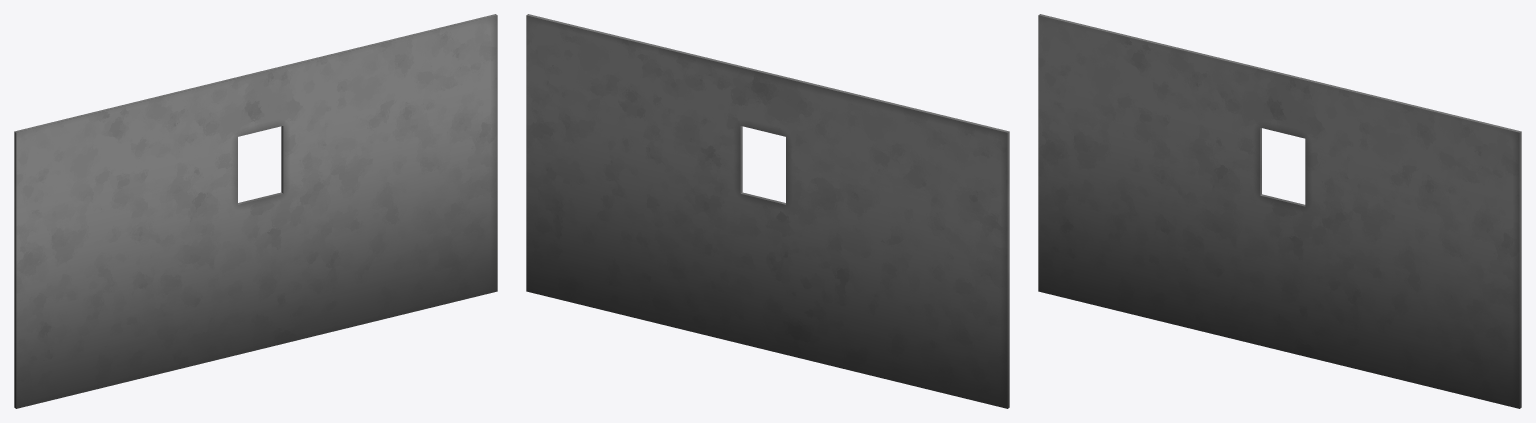
File: FactoryDoor_Wall2.fbx
3 views of the same model, side by side, from view 1: azimuth 30°, elevation 25°; view 2: azimuth 150°, elevation 25°; view 3: azimuth 330°, elevation 25° (orthographic).
Parts seen in each view (by area): view 1: Plane.018; view 2: Plane.018; view 3: Plane.018.
Boxes of the visible parts, x1,y1,x2,y2 form: Plane.018: [14, 14, 497, 408]; Plane.018: [526, 14, 1009, 408]; Plane.018: [1038, 14, 1521, 408].
Bounding box in the file's own units: 1819 × 997 × 12.01.
1 material, 1 textured.
